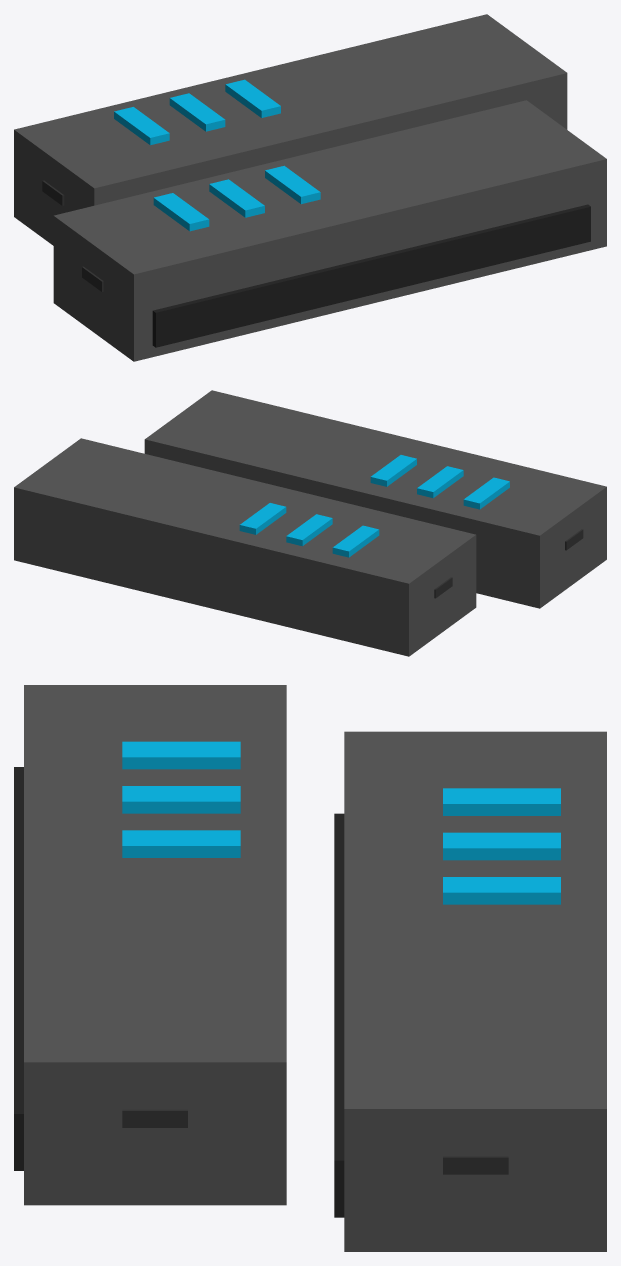
Rendered from ce_ammo2_plasmar_std_b.obj.
3 renders of one model, top to bottom at view 1: azimuth 30°, elevation 25°; view 2: azimuth 150°, elevation 25°; view 3: azimuth 270°, elevation 25°, orthographic. The views are drawn at different scales.
Visible parts, largest first — view 1: ce_ammo2_plasmar_std_b_6, ce_ammo2_plasmar_std_b_0, ce_ammo2_plasmar_std_b_7, ce_ammo2_plasmar_std_b_4, ce_ammo2_plasmar_std_b_9, ce_ammo2_plasmar_std_b_10, ce_ammo2_plasmar_std_b_11, ce_ammo2_plasmar_std_b_5, ce_ammo2_plasmar_std_b_3; view 2: ce_ammo2_plasmar_std_b_0, ce_ammo2_plasmar_std_b_6, ce_ammo2_plasmar_std_b_3, ce_ammo2_plasmar_std_b_5, ce_ammo2_plasmar_std_b_4, ce_ammo2_plasmar_std_b_9, ce_ammo2_plasmar_std_b_10, ce_ammo2_plasmar_std_b_11; view 3: ce_ammo2_plasmar_std_b_6, ce_ammo2_plasmar_std_b_0, ce_ammo2_plasmar_std_b_1, ce_ammo2_plasmar_std_b_7, ce_ammo2_plasmar_std_b_9, ce_ammo2_plasmar_std_b_4, ce_ammo2_plasmar_std_b_10, ce_ammo2_plasmar_std_b_11, ce_ammo2_plasmar_std_b_3, ce_ammo2_plasmar_std_b_5, ce_ammo2_plasmar_std_b_2, ce_ammo2_plasmar_std_b_8.
Part boxes in pixels (<box>): ce_ammo2_plasmar_std_b_6: <box>53,100,606,361</box>; ce_ammo2_plasmar_std_b_0: <box>14,14,567,245</box>; ce_ammo2_plasmar_std_b_7: <box>152,204,590,347</box>; ce_ammo2_plasmar_std_b_4: <box>169,93,225,131</box>; ce_ammo2_plasmar_std_b_9: <box>153,193,209,231</box>; ce_ammo2_plasmar_std_b_10: <box>209,179,264,217</box>; ce_ammo2_plasmar_std_b_11: <box>265,165,320,204</box>; ce_ammo2_plasmar_std_b_5: <box>225,79,280,117</box>; ce_ammo2_plasmar_std_b_3: <box>114,107,169,145</box>; ce_ammo2_plasmar_std_b_0: <box>14,438,476,656</box>; ce_ammo2_plasmar_std_b_6: <box>144,390,606,608</box>; ce_ammo2_plasmar_std_b_3: <box>332,525,379,557</box>; ce_ammo2_plasmar_std_b_5: <box>239,503,286,534</box>; ce_ammo2_plasmar_std_b_4: <box>286,514,332,546</box>; ce_ammo2_plasmar_std_b_9: <box>463,477,509,509</box>; ce_ammo2_plasmar_std_b_10: <box>417,466,463,498</box>; ce_ammo2_plasmar_std_b_11: <box>370,455,416,486</box>; ce_ammo2_plasmar_std_b_6: <box>24,685,286,1205</box>; ce_ammo2_plasmar_std_b_0: <box>344,731,606,1251</box>; ce_ammo2_plasmar_std_b_1: <box>334,813,344,1217</box>; ce_ammo2_plasmar_std_b_7: <box>14,767,23,1170</box>; ce_ammo2_plasmar_std_b_9: <box>122,741,240,769</box>; ce_ammo2_plasmar_std_b_4: <box>443,832,560,860</box>; ce_ammo2_plasmar_std_b_10: <box>122,786,240,813</box>; ce_ammo2_plasmar_std_b_11: <box>122,830,240,857</box>; ce_ammo2_plasmar_std_b_3: <box>443,788,560,815</box>; ce_ammo2_plasmar_std_b_5: <box>443,877,560,904</box>; ce_ammo2_plasmar_std_b_2: <box>443,1156,508,1174</box>; ce_ammo2_plasmar_std_b_8: <box>122,1109,187,1127</box>.
Size of the model in its own units: 0.9134 by 0.1545 by 0.5364.
